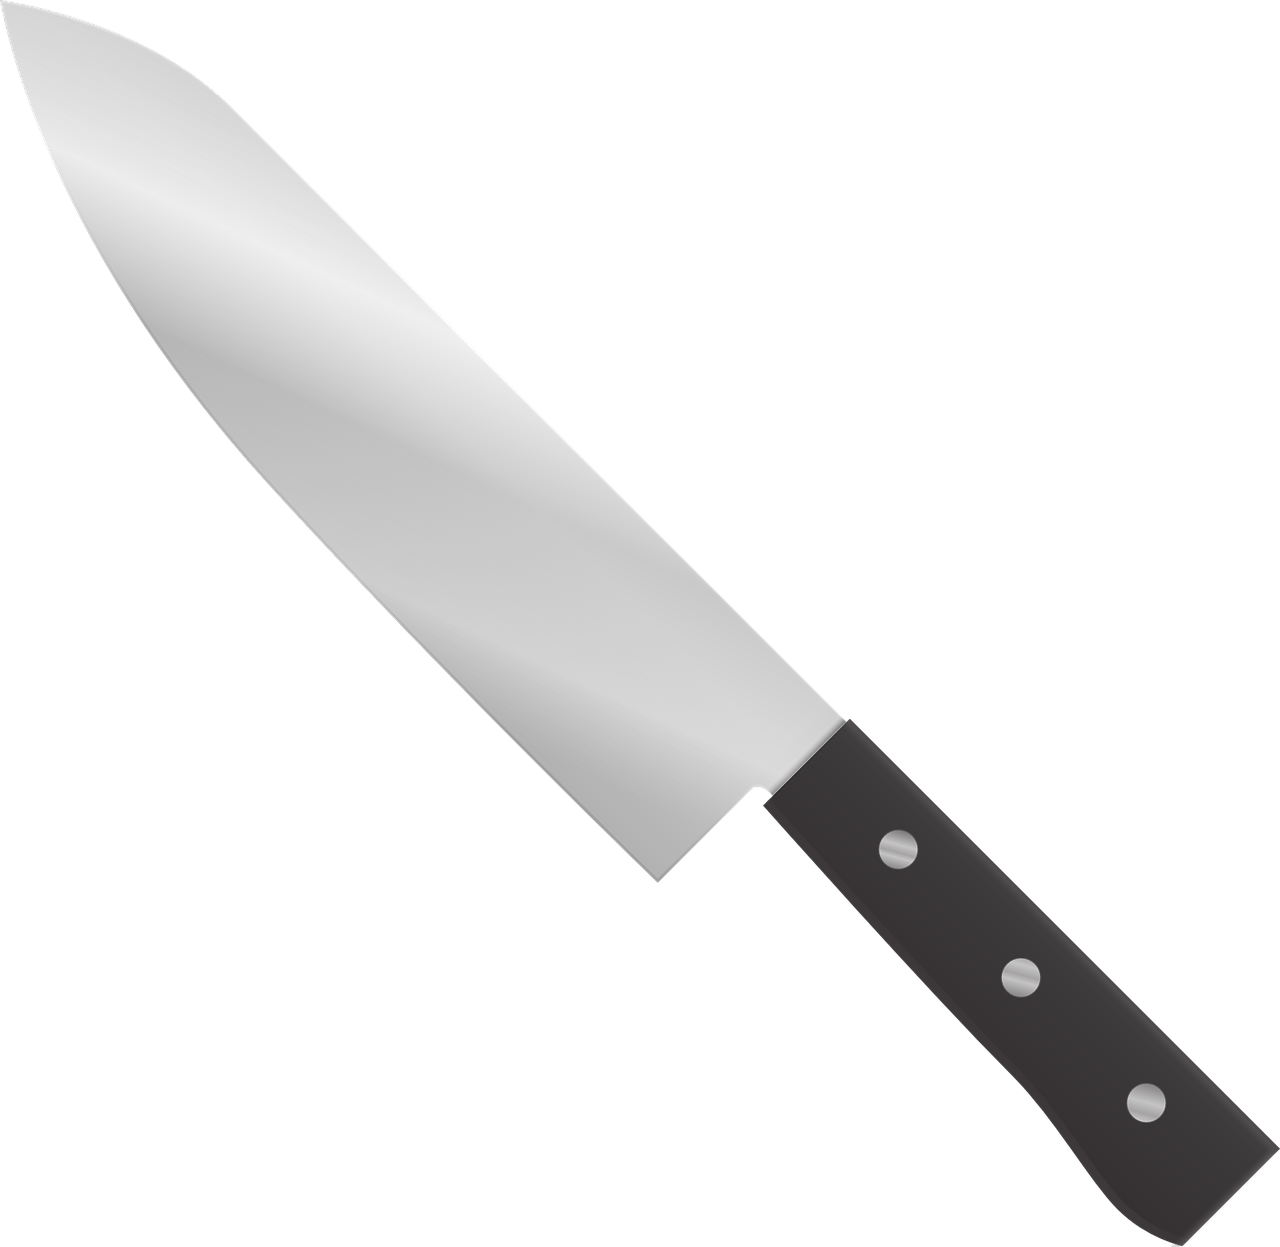knife: (0, 0, 1264, 1239)
